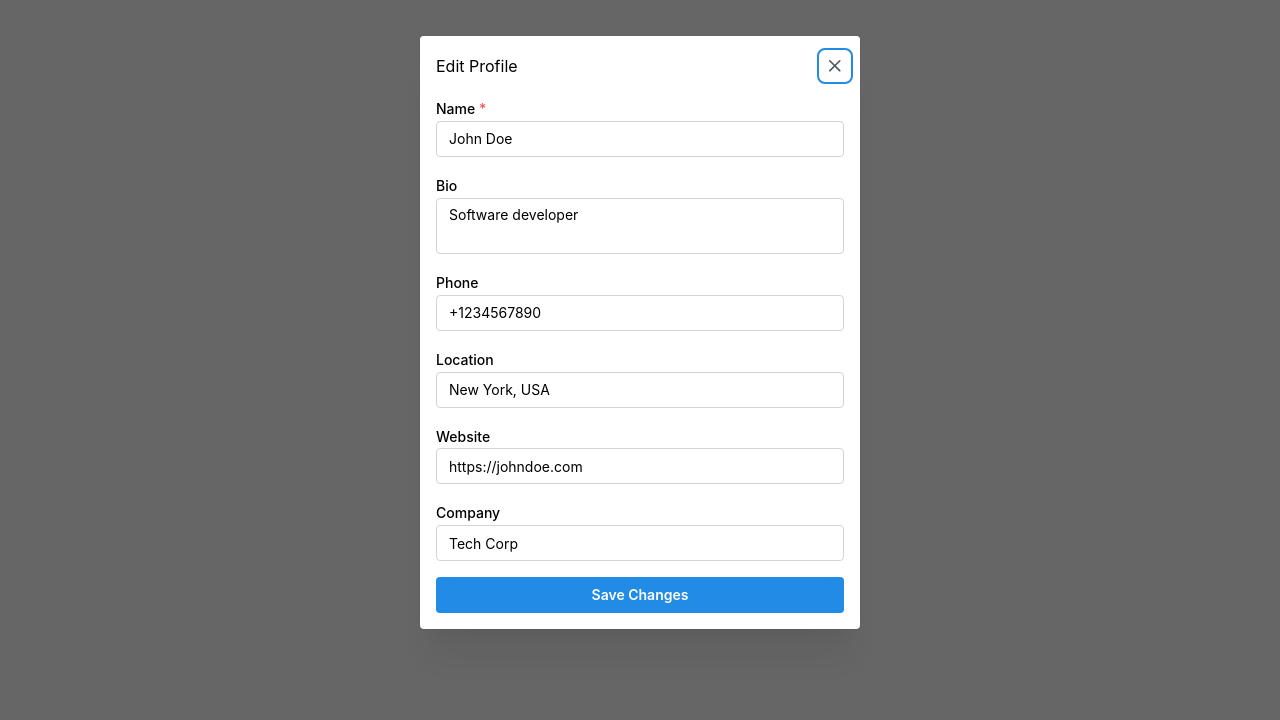
Test case: EditProfileModal › should validate phone number format
The image size is (1280, 720).
Replace the text in the field labelled "Phone" with "invalid-phone" at {"x": 640, "y": 313}, box [436,295,844,331]
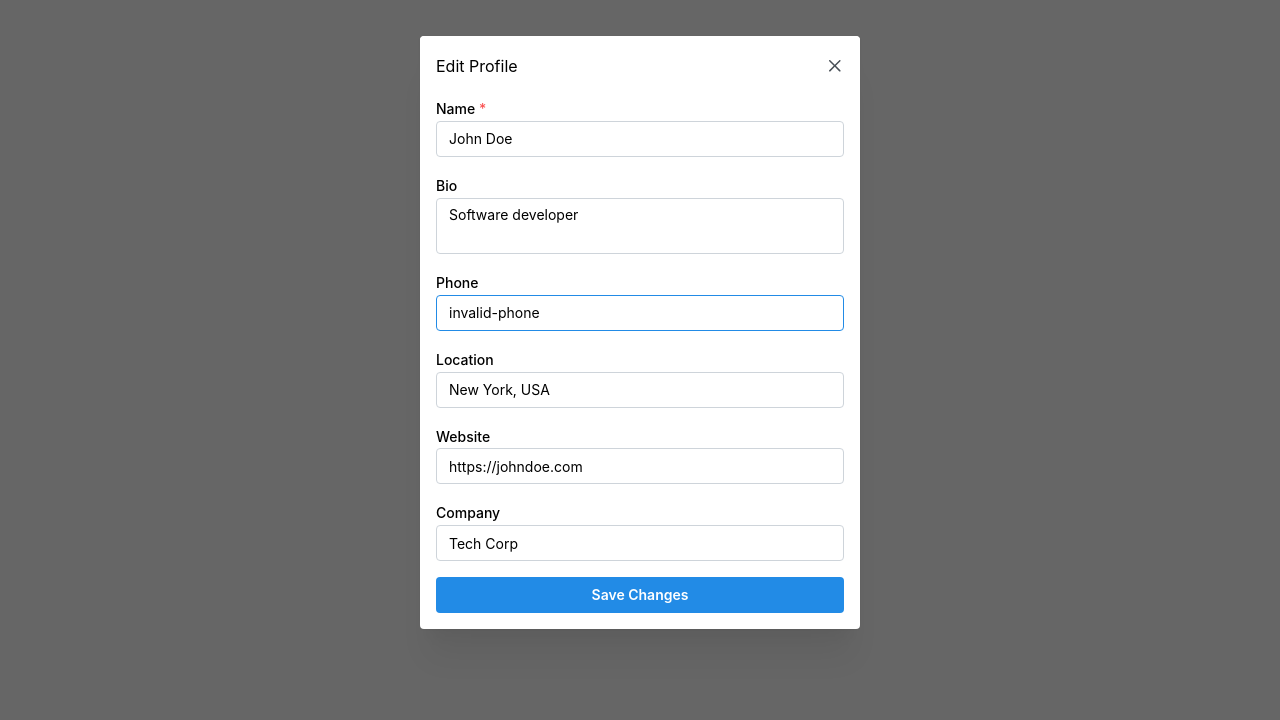
Click the button "Save Changes".
click(640, 595)  # box [436,577,844,613]
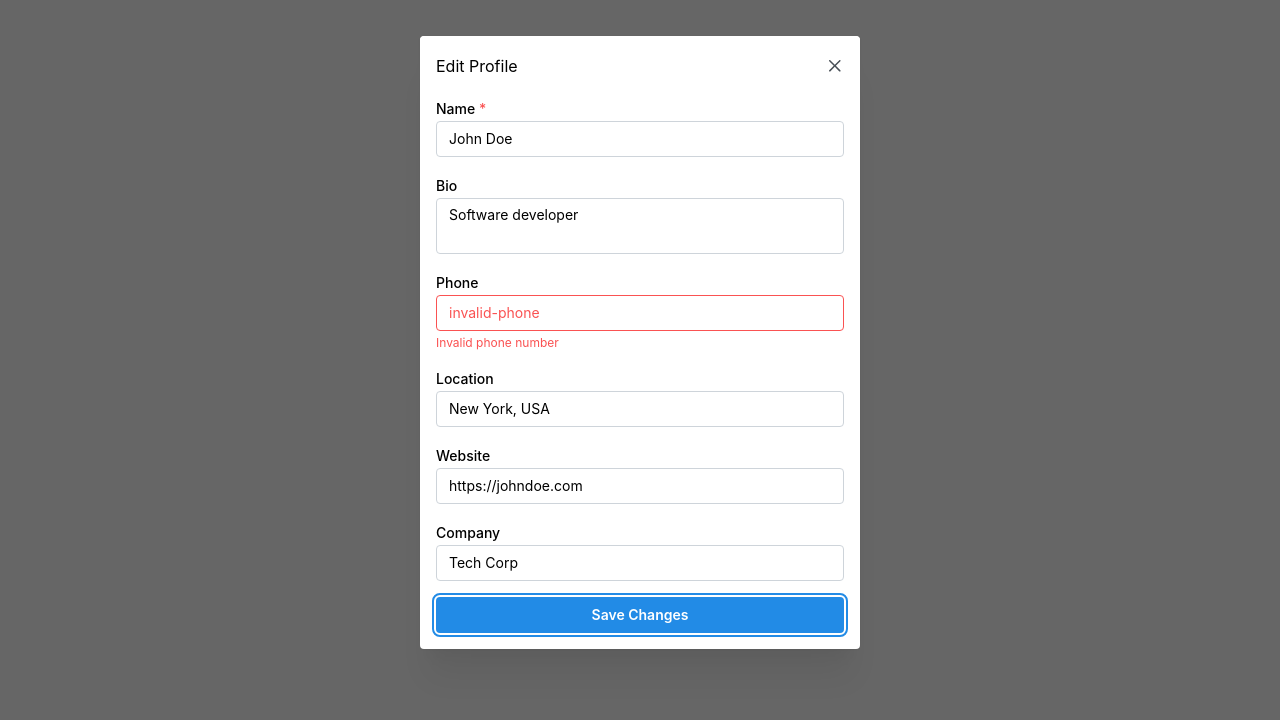
Check: the text "Invalid phone number" is shown, box [436,335,559,350]
